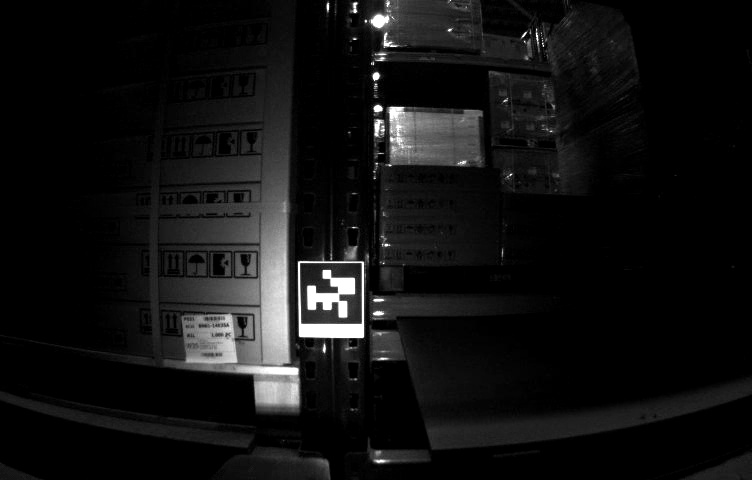True Barcode: (181, 312, 237, 368)
